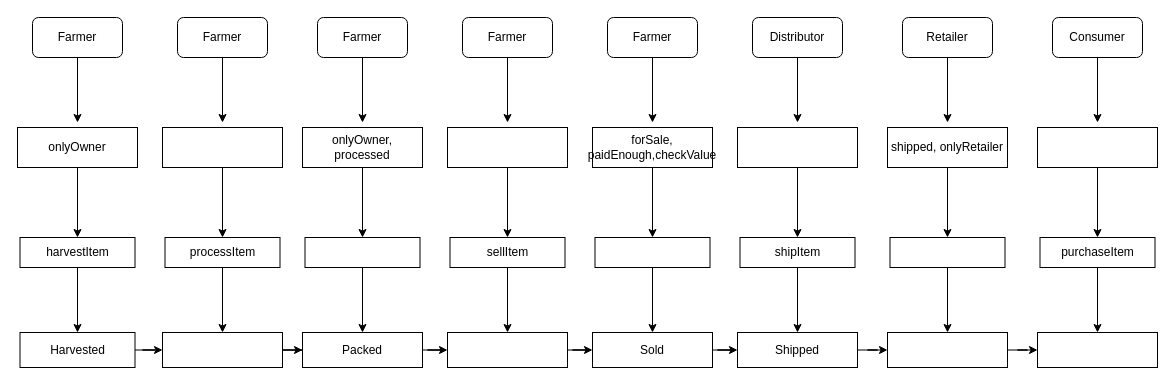
The diagram is 1175 pixels wide and 385 high, and some of its shapes have lost their labels. The shapes that lost their labels are listed below. From the top down, each one's centre as x and y in pixels, then its label:
At (222,147): "onlyOwner, harvested".
At (507,147): "onlyOwner, packed".
At (797,147): "sold, verifyCaller".
At (1097,147): "received, onlyConsumer".
At (362,252): "packItem".
At (652,252): "buyItem".
At (947,252): "receiveItem".
At (222,350): "Processed".
At (507,350): "ForSale".
At (947,350): "Received".
At (1097,350): "Purchased".
